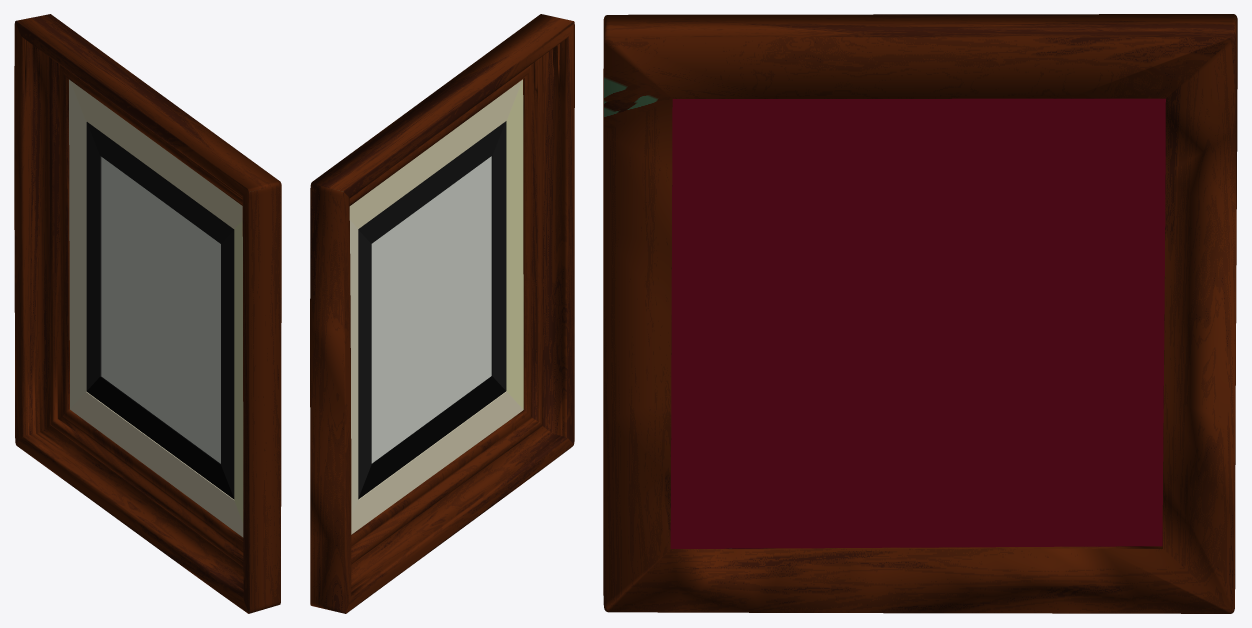
Rendered from frame_1_naming.glb.
The picture shows the model from 3 angles, left to right: view 1: azimuth 30°, elevation 25°; view 2: azimuth 150°, elevation 25°; view 3: azimuth 270°, elevation 25°; orthographic projection. The views are drawn at different scales.
Parts seen in each view (by area): view 1: FRAME TOP, Photo, First Mat left, First Mat bottom, First Mat top, Second Mat left, Second Mat Bottom, Second Mat right, Second Mat top, First Mat right; view 2: FRAME TOP, Photo, First Mat right, First Mat bottom, First Mat top, Second Mat right, Second Mat Bottom, Second Mat left, Second Mat top, First Mat left; view 3: Frame Backside, FRAME TOP.
Boxes of the visible parts, x1,y1,x2,y2 form: FRAME TOP: [14, 14, 281, 613]; Photo: [101, 157, 220, 463]; First Mat left: [69, 79, 86, 408]; First Mat bottom: [70, 391, 243, 537]; First Mat top: [70, 80, 242, 228]; Second Mat left: [86, 121, 101, 391]; Second Mat Bottom: [86, 376, 234, 499]; Second Mat right: [221, 230, 234, 498]; Second Mat top: [87, 122, 234, 243]; First Mat right: [234, 220, 243, 522]; FRAME TOP: [310, 14, 574, 613]; Photo: [371, 156, 491, 463]; First Mat right: [506, 80, 523, 409]; First Mat bottom: [351, 391, 523, 534]; First Mat top: [349, 79, 522, 228]; Second Mat right: [491, 121, 506, 390]; Second Mat Bottom: [358, 376, 505, 499]; Second Mat left: [358, 230, 371, 497]; Second Mat top: [358, 121, 505, 243]; First Mat left: [349, 220, 358, 517]; Frame Backside: [670, 98, 1165, 548]; FRAME TOP: [603, 14, 1237, 613].
Size of what is drawn, in the model's own units: 0.5269 by 6.05 by 6.02.
11 materials, 1 textured.
